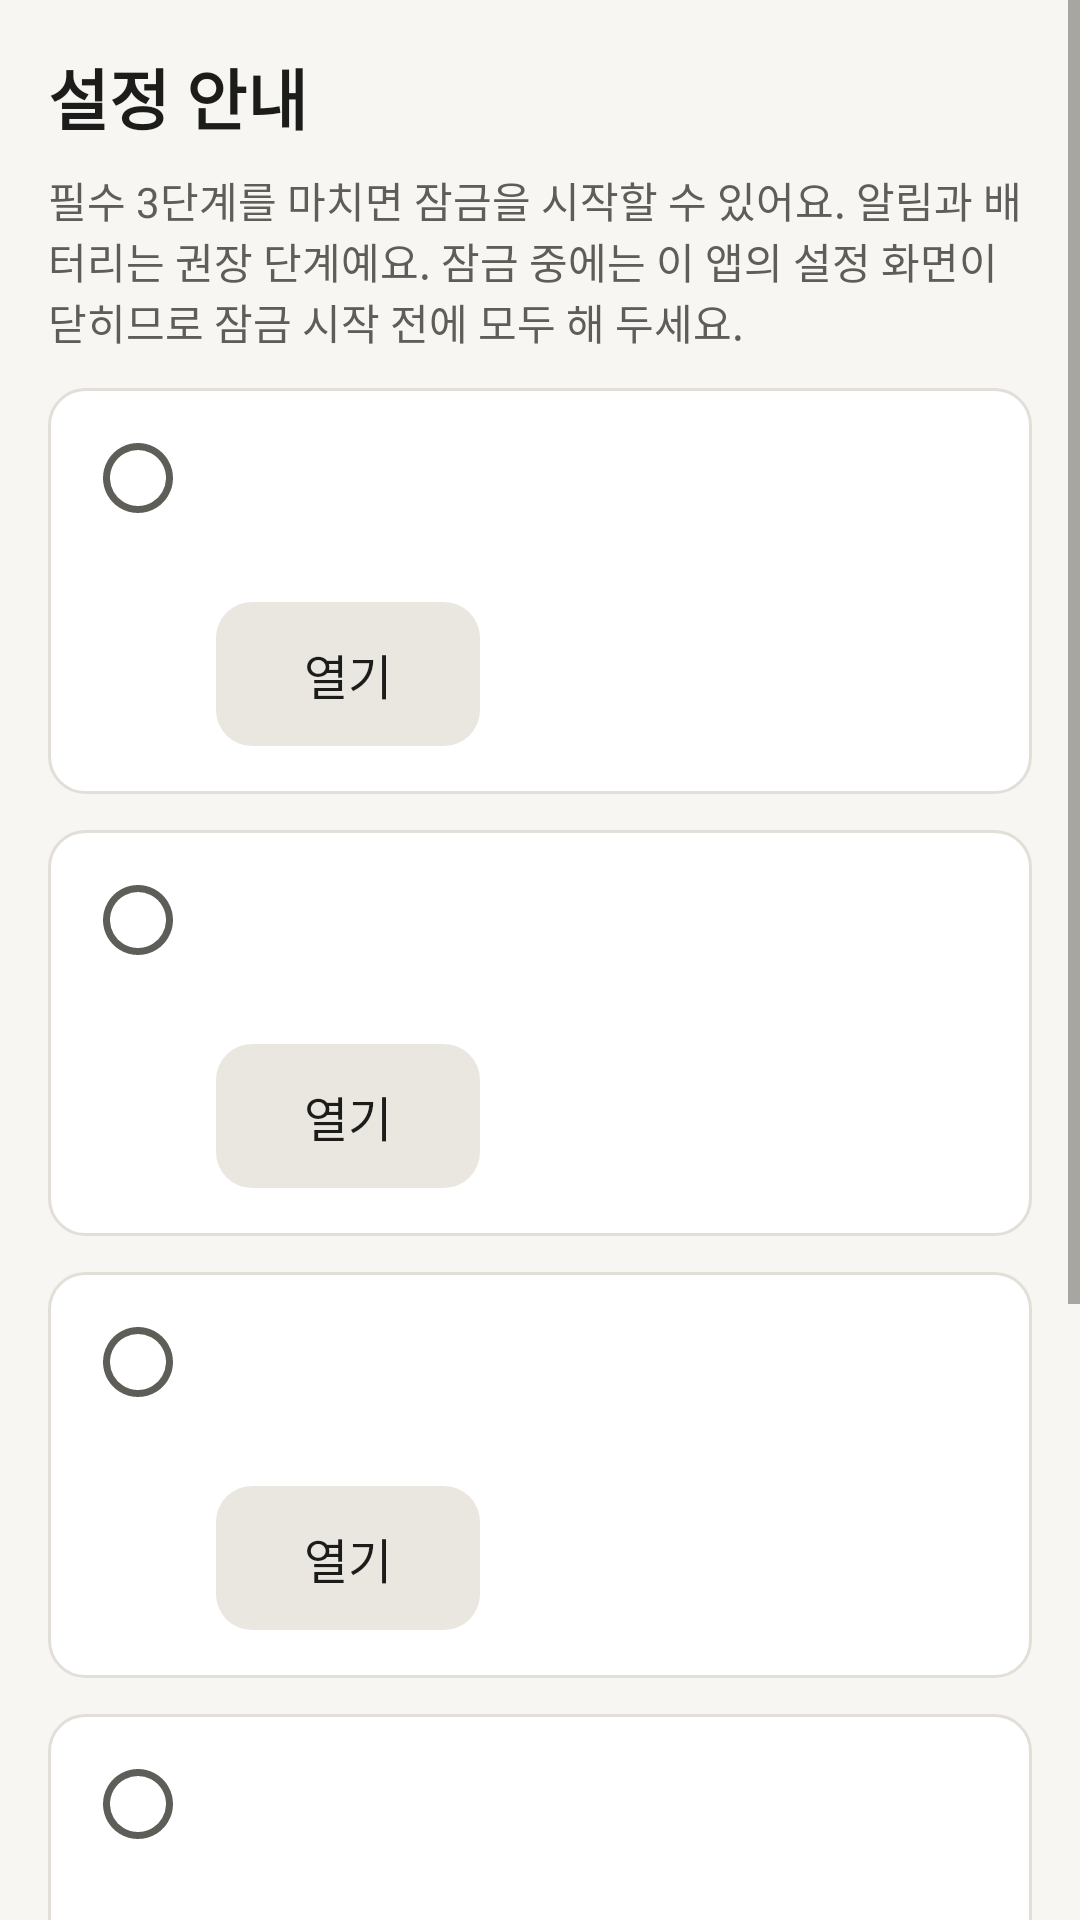

Named icons in this screenshot (1080px x 1920px) and their bounding boxes, rect(x1, y1, x2, y2):
미완료: rect(103, 443, 173, 513), rect(103, 885, 173, 955), rect(103, 1327, 173, 1397), rect(103, 1769, 173, 1839)
